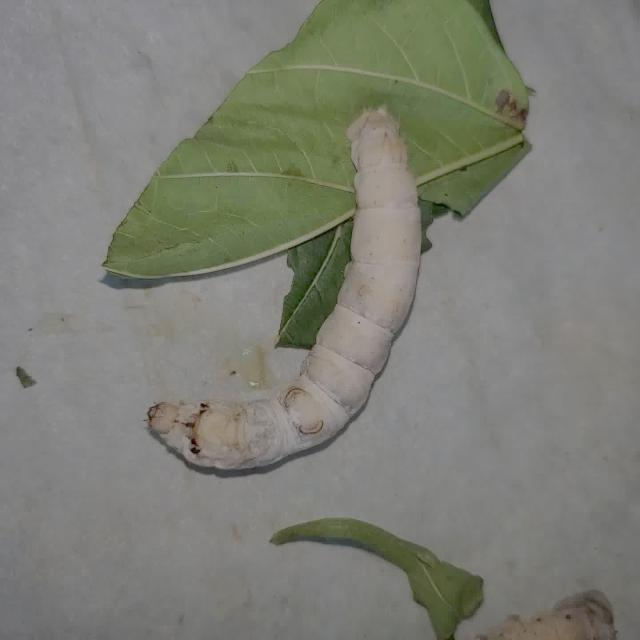Grasserie: (137, 98, 436, 480)
